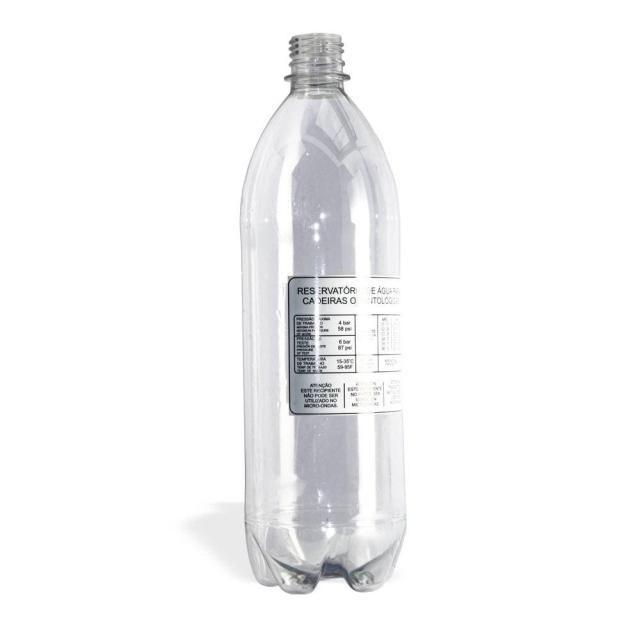bottle: (241, 34, 406, 594)
